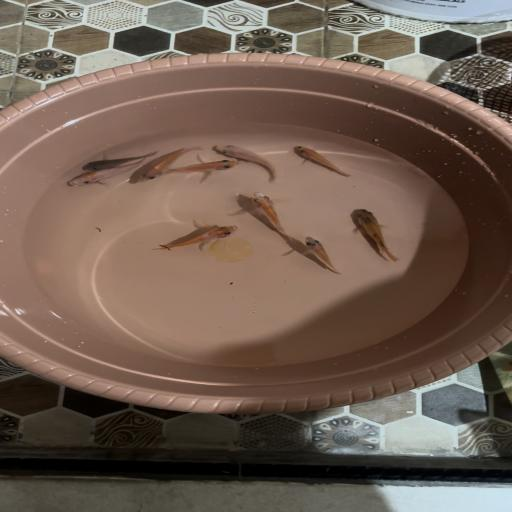nila: (344, 206, 408, 264), (149, 220, 247, 254), (207, 143, 284, 182), (133, 144, 202, 186), (289, 142, 361, 182), (241, 190, 296, 241), (290, 234, 346, 277), (66, 162, 148, 191), (72, 147, 160, 172), (160, 160, 243, 178)
